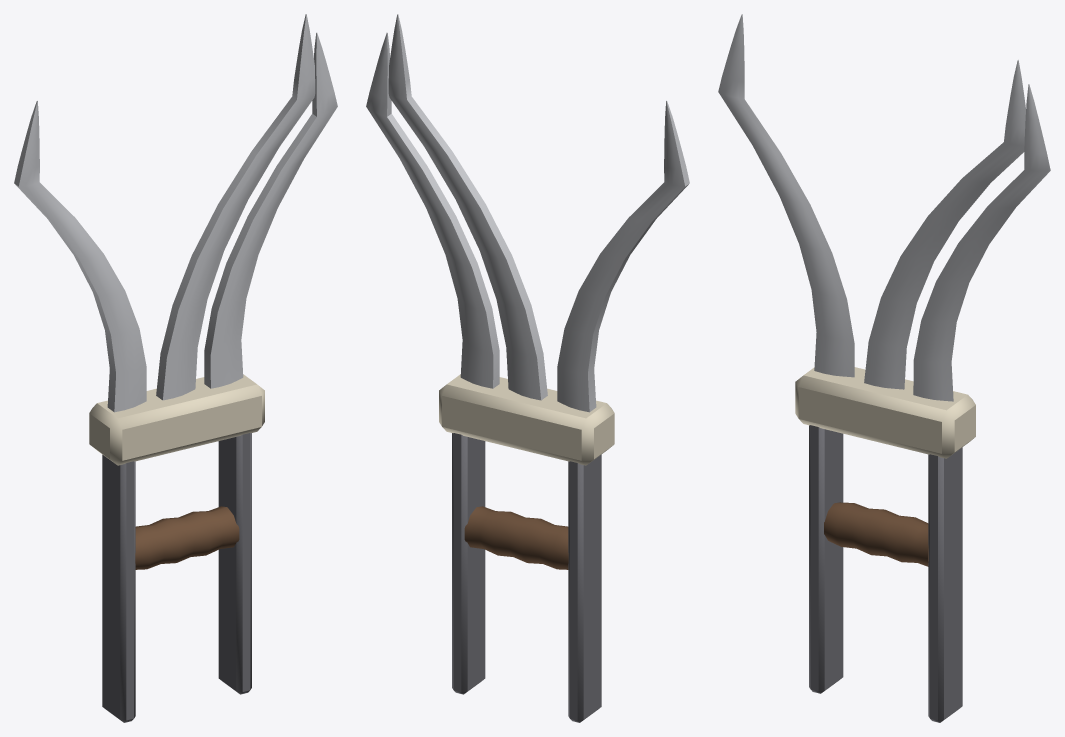
The model's file is raptor_talons.glb.
3 renders of one model, left to right at view 1: azimuth 30°, elevation 25°; view 2: azimuth 150°, elevation 25°; view 3: azimuth 330°, elevation 25°, orthographic. The views are drawn at different scales.
Visible parts, largest first — view 1: raptor_talons; view 2: raptor_talons; view 3: raptor_talons.
Boxes of the visible parts, x1,y1,x2,y2 form: raptor_talons: [14, 14, 337, 722]; raptor_talons: [366, 14, 689, 722]; raptor_talons: [718, 14, 1050, 722].
Bounding box in the file's own units: 0.2489 × 0.485 × 0.04.
